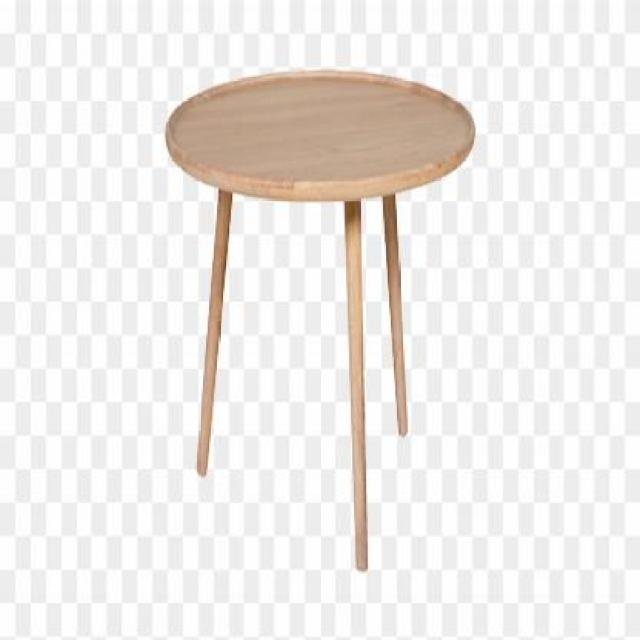table: (163, 65, 477, 578)
